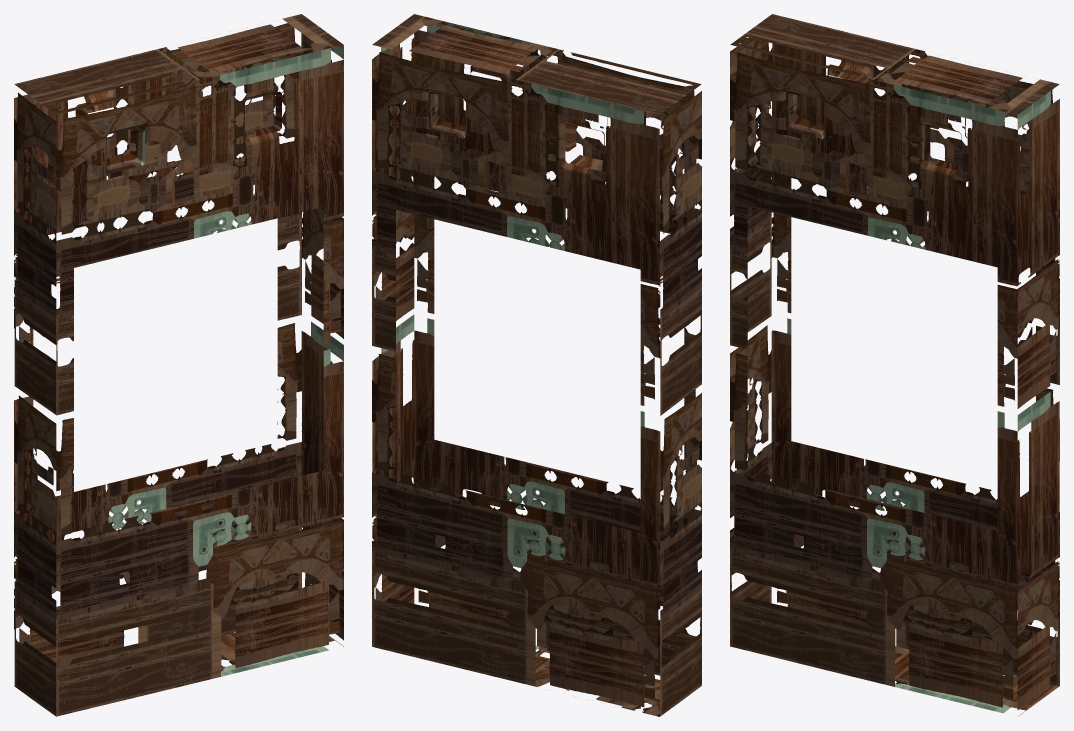
3 views of the same model, side by side, from view 1: azimuth 30°, elevation 25°; view 2: azimuth 150°, elevation 25°; view 3: azimuth 330°, elevation 25° (orthographic).
Visible parts, largest first — view 1: SM_BB_T4_Window_LOD0; view 2: SM_BB_T4_Window_LOD0; view 3: SM_BB_T4_Window_LOD0.
Part boxes in pixels (box(x1,y1,x2,y2)): SM_BB_T4_Window_LOD0: box(14, 14, 343, 716); SM_BB_T4_Window_LOD0: box(372, 14, 701, 716); SM_BB_T4_Window_LOD0: box(730, 14, 1059, 716).
Size of the model in its own units: 1.5 by 3 by 0.3805.
